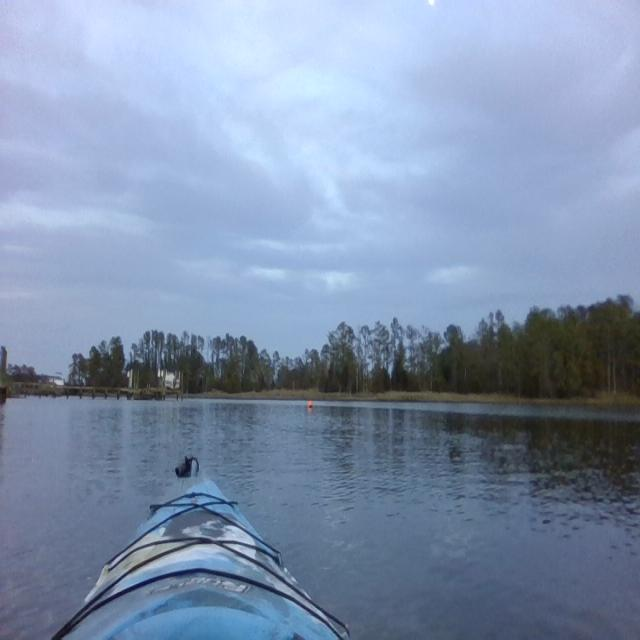Buoy: (306, 398, 314, 411)
